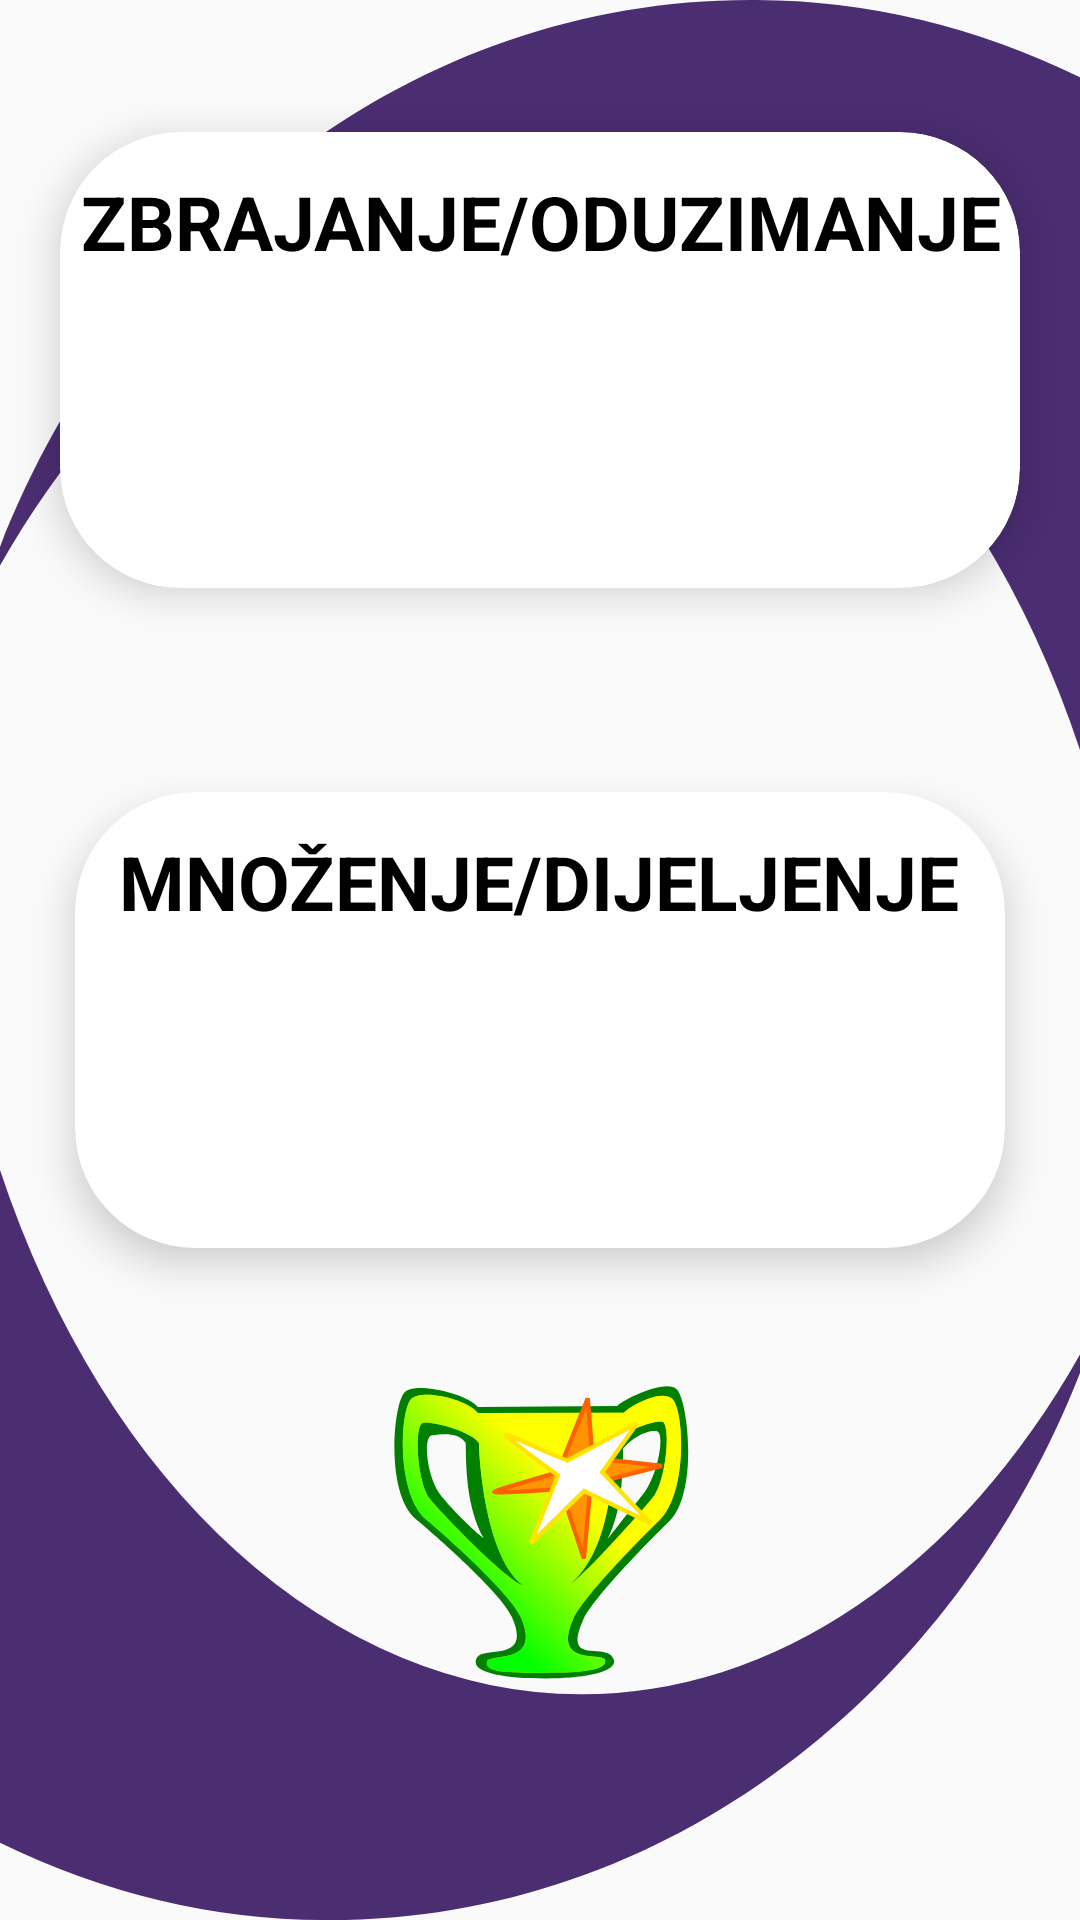

Icon bounding boxes for this 1080x1920 phone screenshot, format (x1, y1, x2, y2):
score trophy: (394, 1386, 689, 1679)
